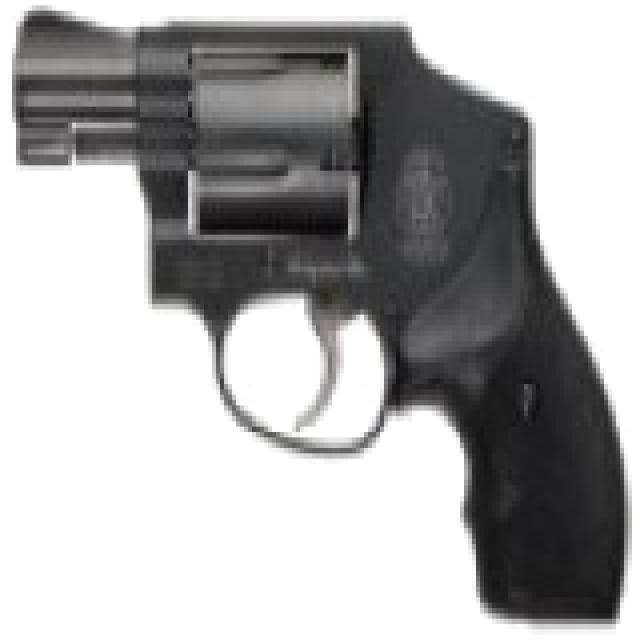pistol: (28, 11, 604, 608)
